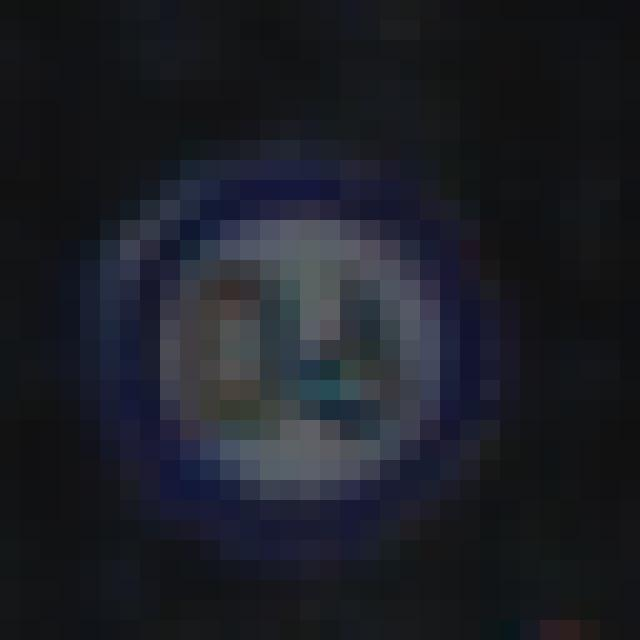SPEED-LIMIT-60: (65, 146, 518, 551)
